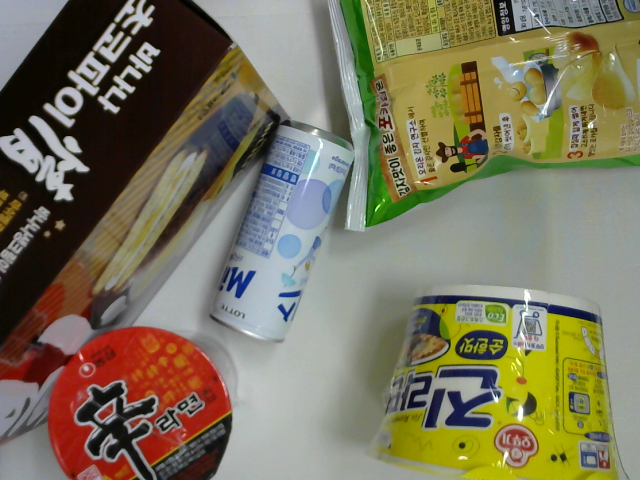Choco_Pie_Banana: (1, 1, 290, 450)
Jinlamyeon_Mild_Taste_Large_Cup: (359, 283, 630, 480)
Milkies_250ml: (209, 119, 353, 346)
Pocachip_Onion: (322, 1, 639, 235)
Sinramen_small: (47, 327, 239, 480)
